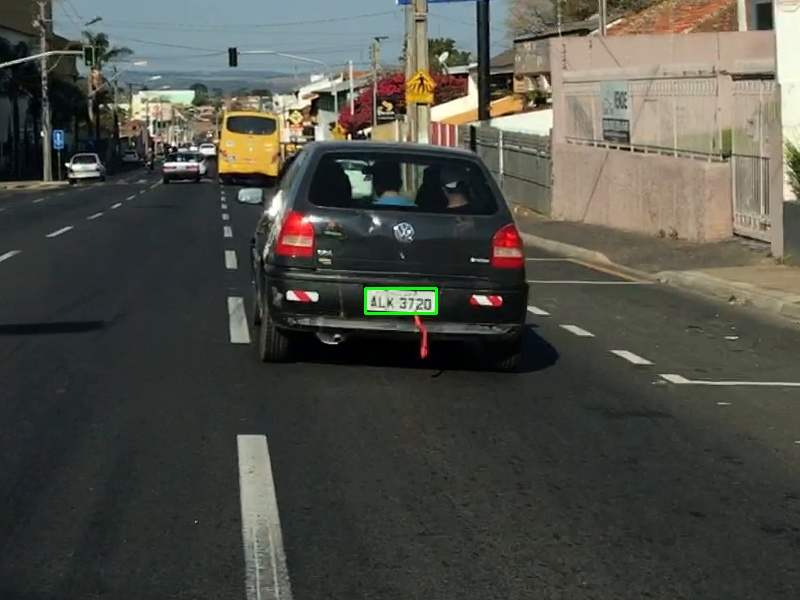placa: (365, 288, 436, 313)
